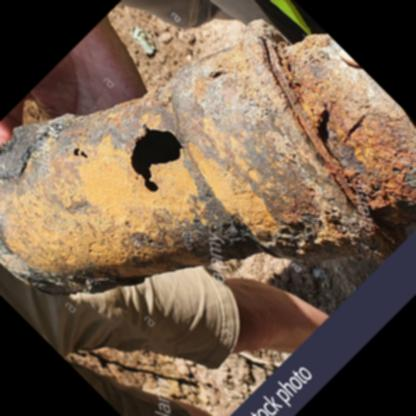burst: (122, 115, 200, 191)
